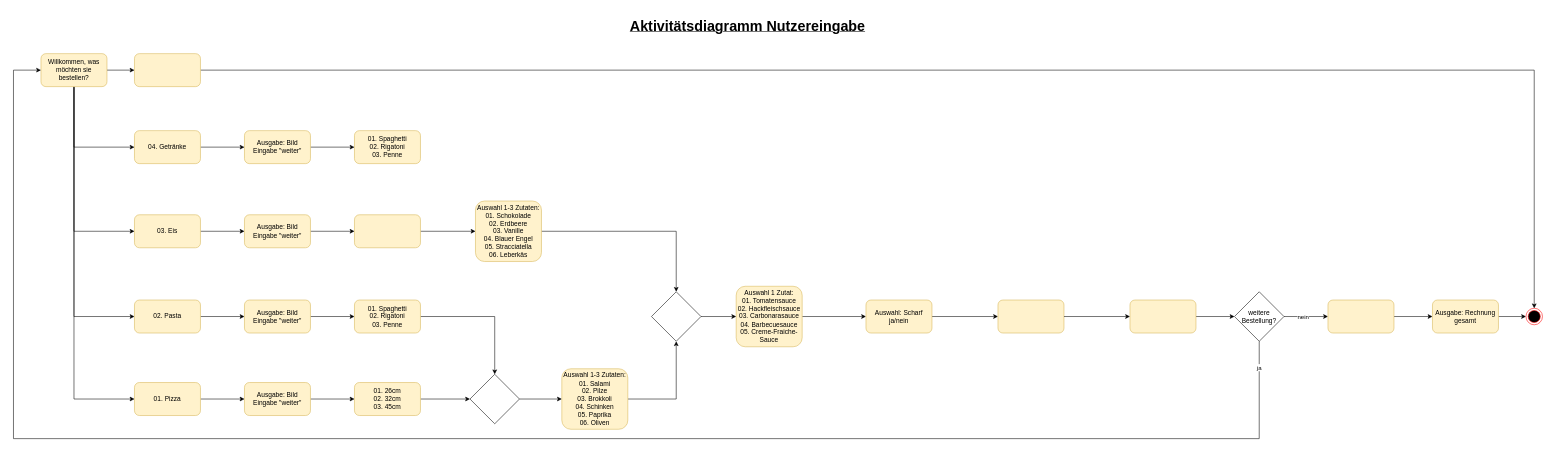
Image size: 1552x453. Some labels were removed from this diagram. The shapes that lost their labels are listed below. From the top down, each one's centre as x and y in pixels, then its label:
point (167, 70): 05. Beenden
point (387, 231): 01. Spaghettieis 02. Wassereis 03. Eiskugeln
point (1030, 316): Auswahl: extra Käse ja/nein
point (1162, 316): Ausgabe: Produktpreis
point (1360, 316): Ausgabe: Sound
